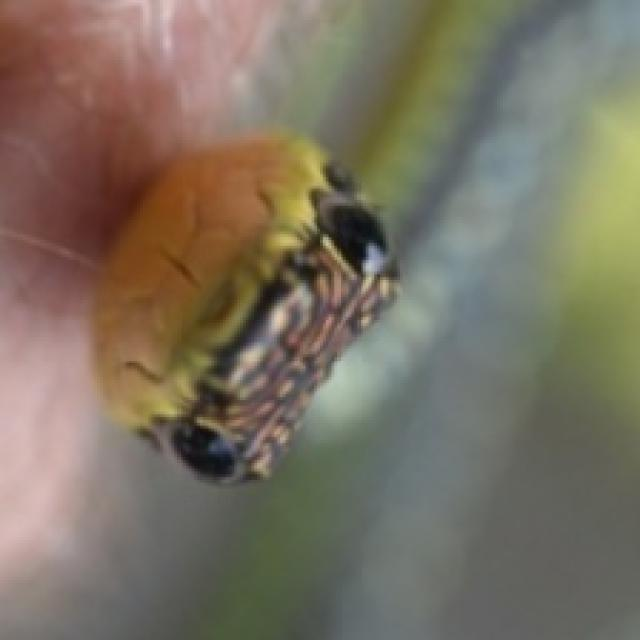paradise tree snake: (94, 134, 394, 480)
